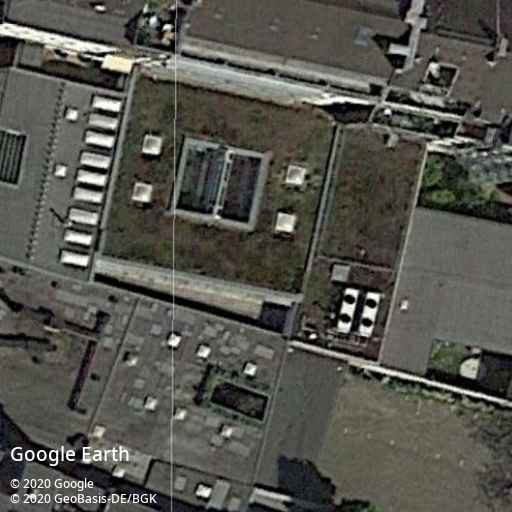Chiller: (336, 287, 360, 332), (357, 291, 381, 336)
